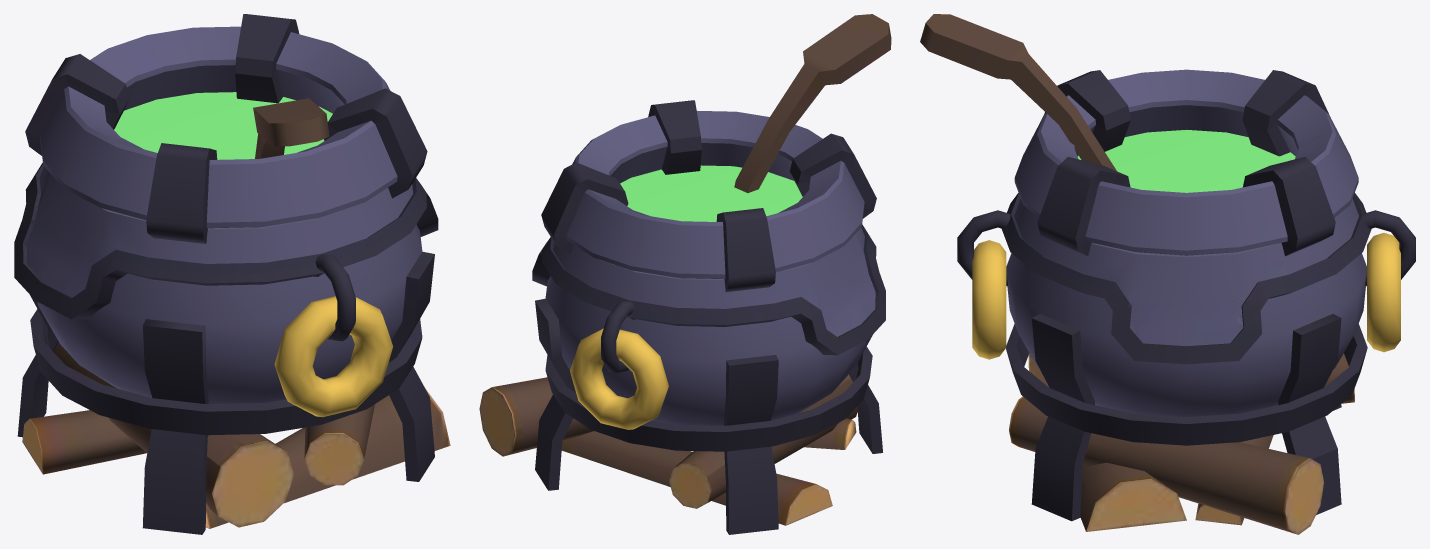
The model's file is cauldron.glb.
3 renders of one model, left to right at view 1: azimuth 30°, elevation 25°; view 2: azimuth 150°, elevation 25°; view 3: azimuth 270°, elevation 25°, orthographic. The views are drawn at different scales.
Visible parts, largest first — view 1: cauldron2; view 2: cauldron2; view 3: cauldron2.
Boxes of the visible parts, x1,y1,x2,y2 form: cauldron2: (14,14,450,534); cauldron2: (479,14,891,534); cauldron2: (920,14,1415,534).
Bounding box in the file's own units: 1.25 × 1.3 × 1.42.
1 material, 1 textured.
